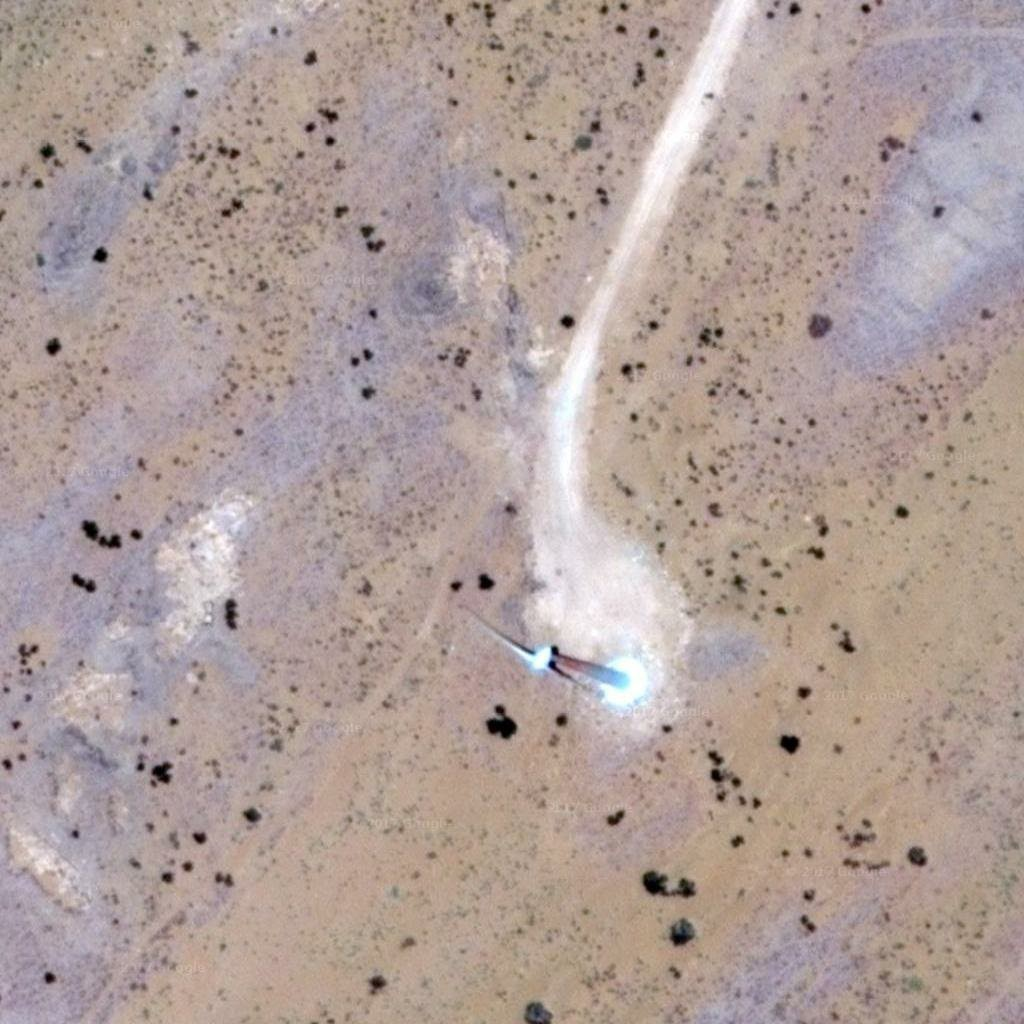Windmill: (447, 592, 647, 697)
